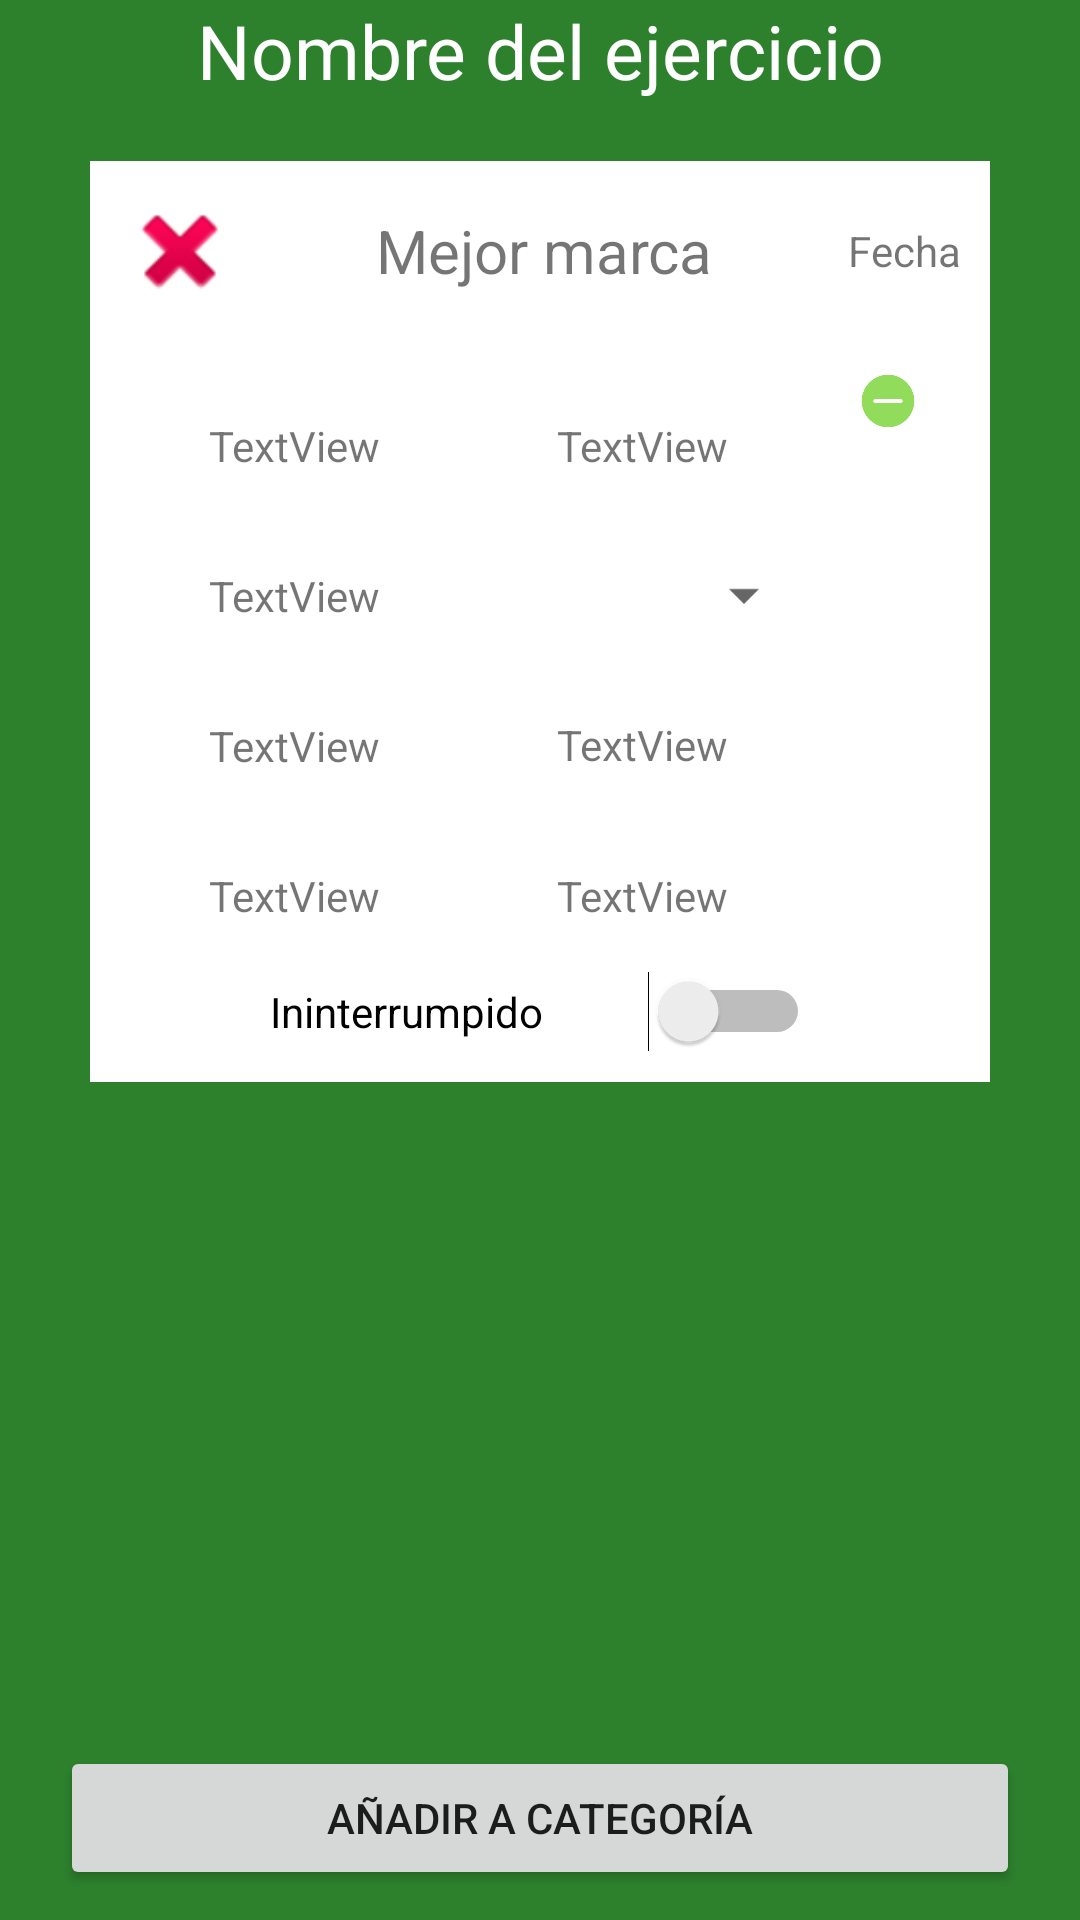

Icon bounding boxes for this 1080px×1920px phone screenshot, format (x1, y1, x2, y2):
delete: (142, 215, 218, 289)
menos: (862, 375, 914, 427)
